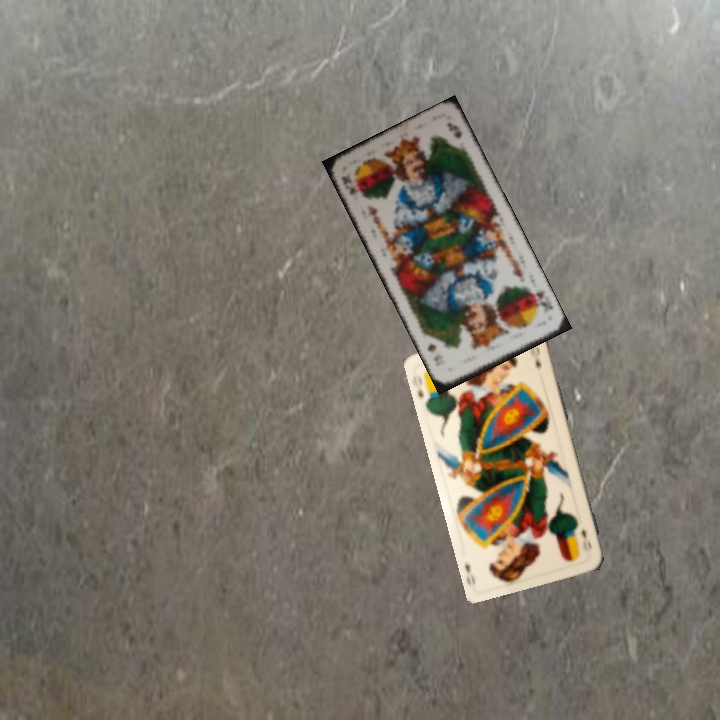EO: (576, 526, 594, 554), (412, 370, 426, 404)
SK: (525, 285, 556, 314), (338, 170, 359, 198)
